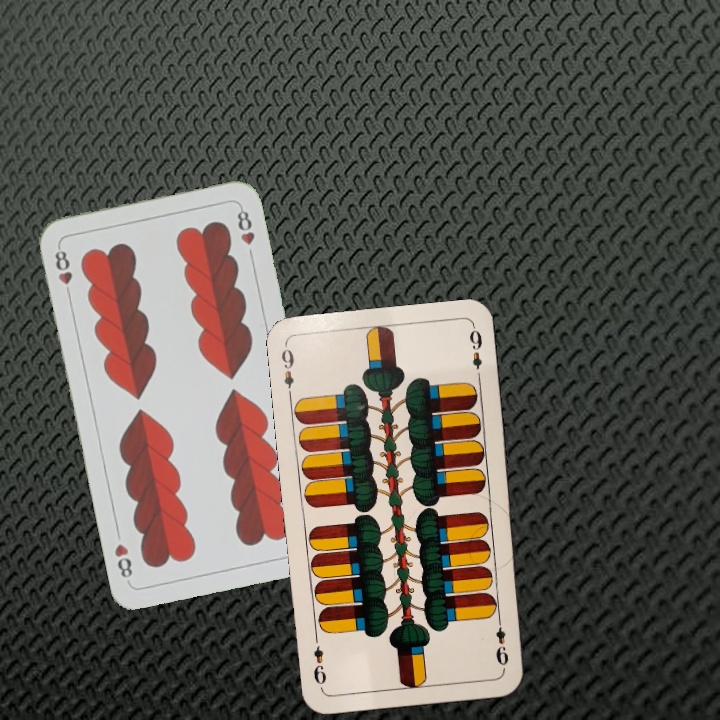E9: (492, 612, 511, 671), (277, 341, 296, 400)
H8: (51, 242, 75, 301)
